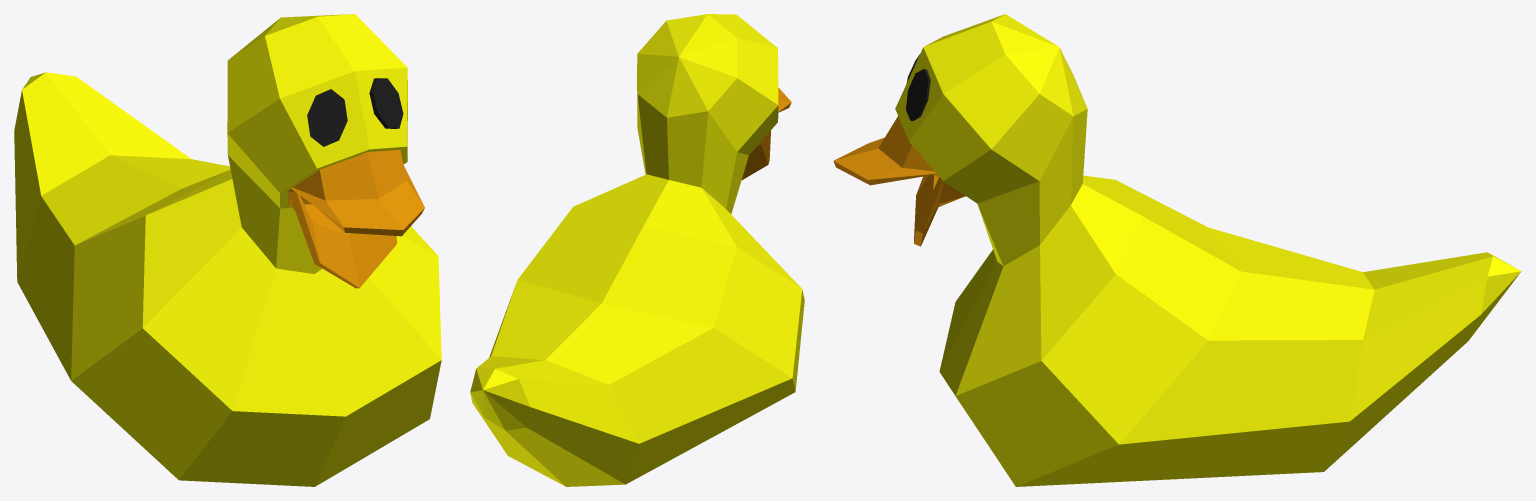
The model's file is RubberDucky.fbx.
The picture shows the model from 3 angles, left to right: view 1: azimuth 30°, elevation 25°; view 2: azimuth 150°, elevation 25°; view 3: azimuth 270°, elevation 25°; orthographic projection. The views are drawn at different scales.
Visible parts, largest first — view 1: Sphere; view 2: Sphere; view 3: Sphere.
Boxes of the visible parts, left/top/right/bottom form: Sphere: left=14, top=14, right=441, bottom=486; Sphere: left=470, top=14, right=804, bottom=486; Sphere: left=833, top=14, right=1521, bottom=486.
Size of the model in its own units: 9.83 by 12.5 by 17.87.
